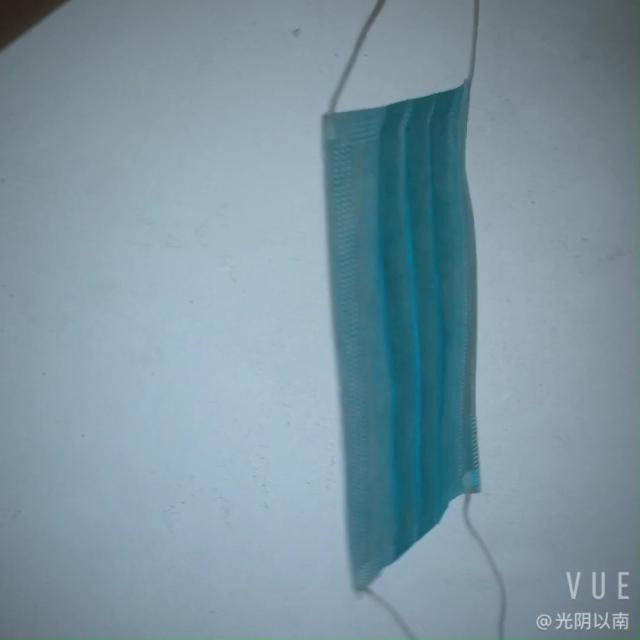face mask: (296, 79, 516, 596)
